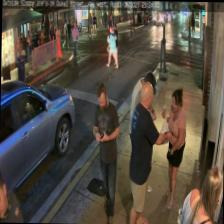person: (127, 79, 172, 224), (90, 82, 120, 224), (127, 72, 156, 200), (160, 86, 186, 208), (177, 165, 222, 224)
